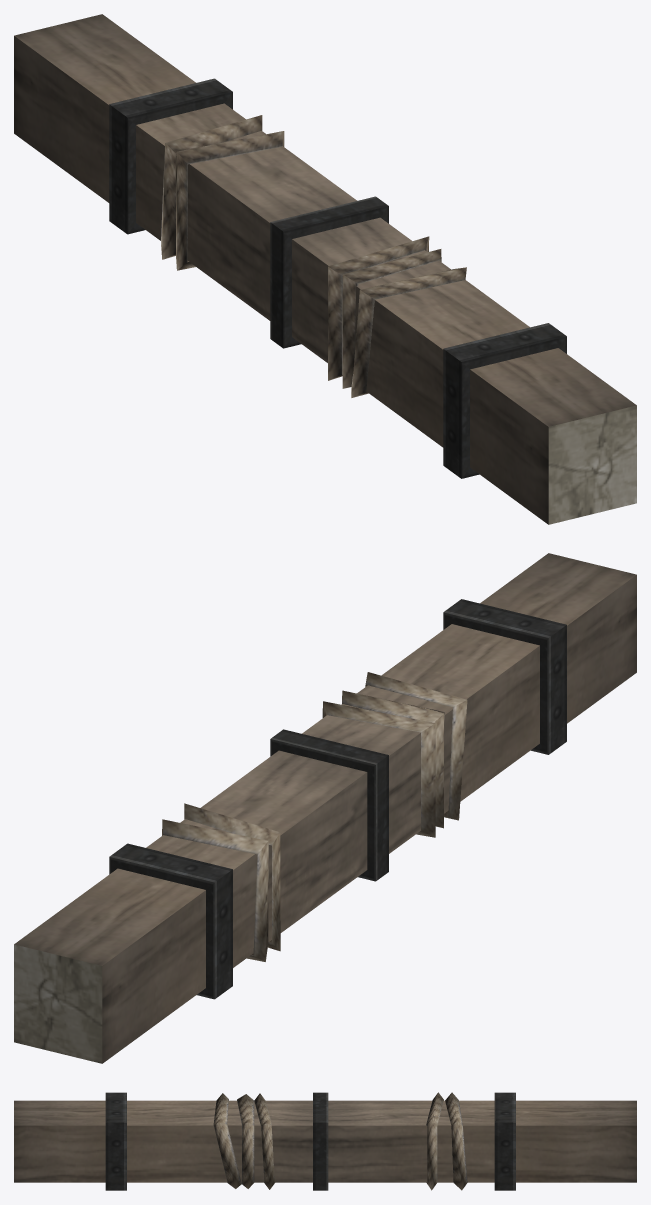
File: Pillar_C.fbx
3 views of the same model, one above another, from view 1: azimuth 30°, elevation 25°; view 2: azimuth 150°, elevation 25°; view 3: azimuth 270°, elevation 25° (orthographic). The views are drawn at different scales.
Parts seen in each view (by area): view 1: Pillar_C; view 2: Pillar_C; view 3: Pillar_C.
Boxes of the visible parts, box(x1,y1,x2,y2) form: Pillar_C: box(14, 14, 636, 524); Pillar_C: box(14, 553, 636, 1063); Pillar_C: box(14, 1092, 636, 1190).
Size of the model in its own units: 0.4636 by 0.4937 by 4.01.
